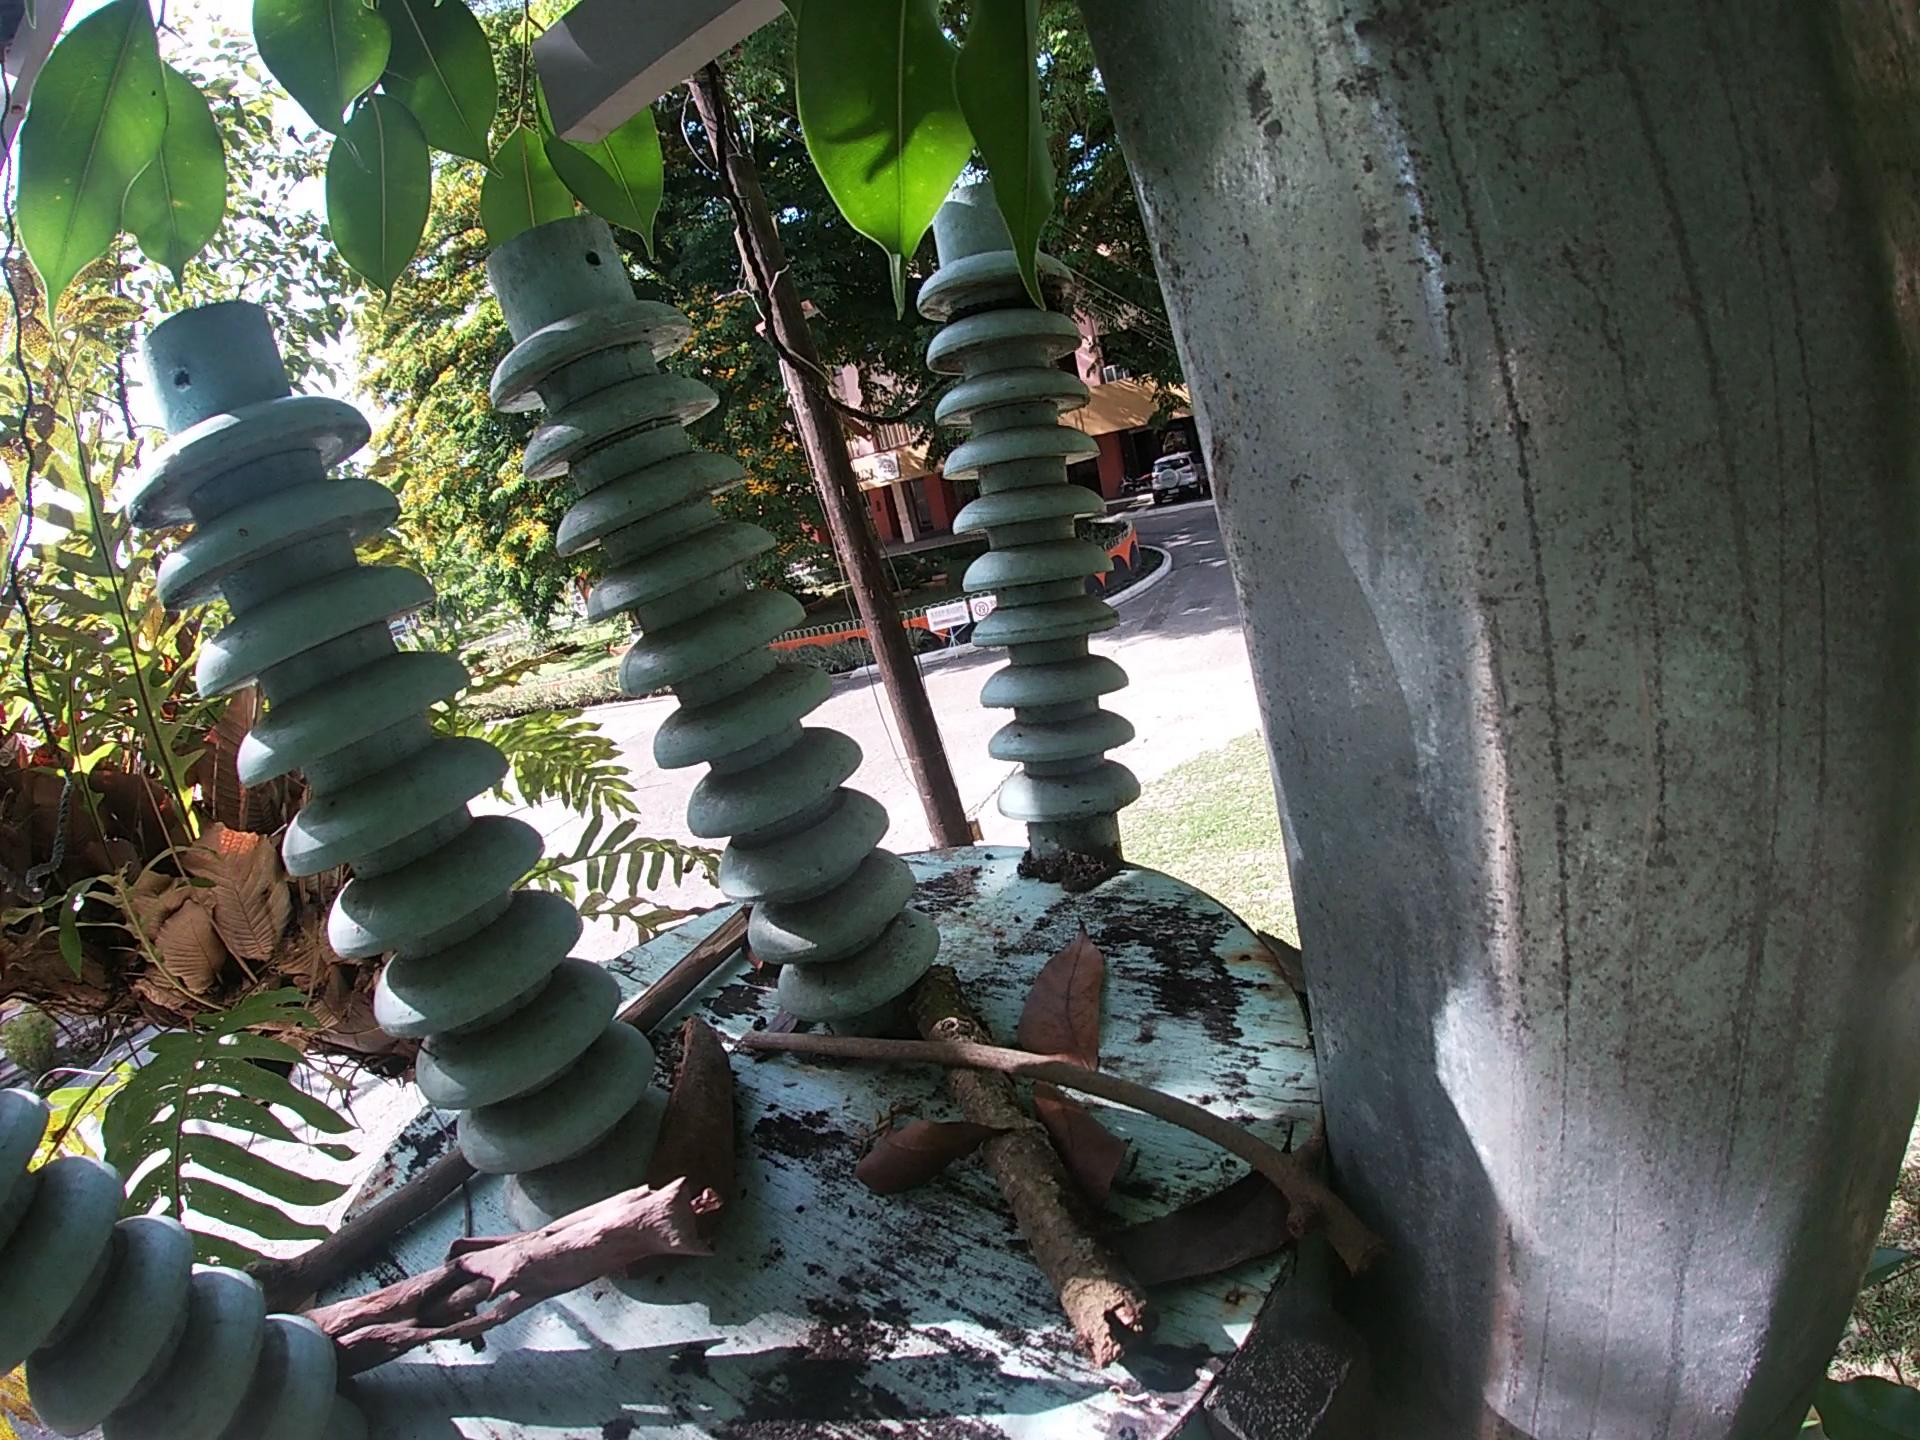leaf: (1098, 1115, 1311, 1296), (844, 1104, 1027, 1207), (1011, 914, 1125, 1069), (1023, 1075, 1134, 1222)
mahogany fruit: (621, 1007, 754, 1299)
tree branch: (742, 1019, 1397, 1287), (895, 956, 1160, 1379), (281, 1172, 729, 1393), (234, 1139, 475, 1319), (615, 898, 770, 1036)
